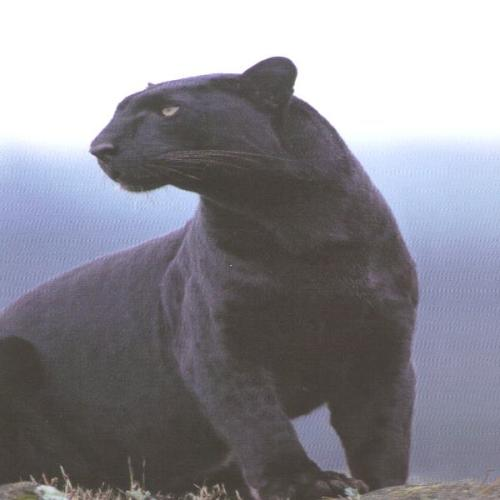panther-endangered: (3, 76, 421, 477)
